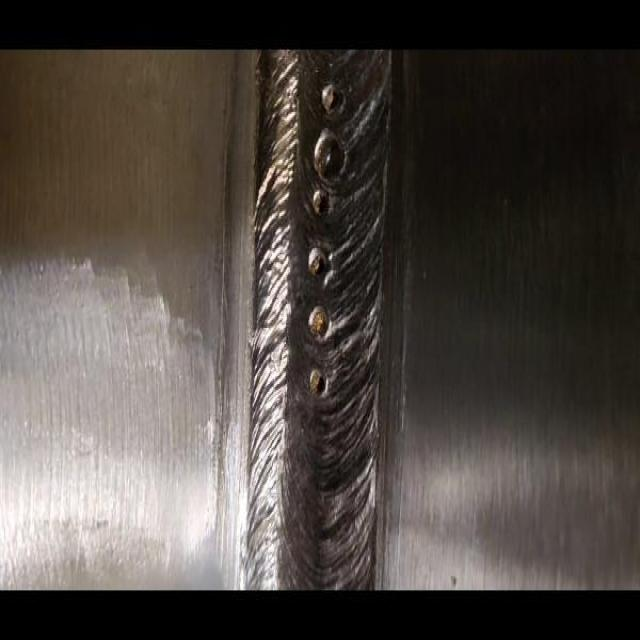Welding Line: (256, 49, 380, 586)
Workpiece: (3, 48, 640, 582)
porosity: (307, 81, 347, 394)
